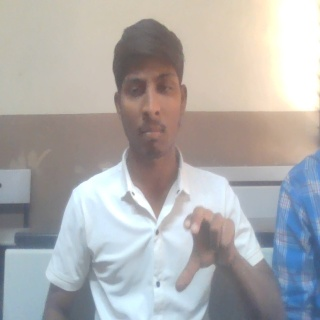Face: (110, 17, 189, 162)
No: (173, 203, 239, 294)
